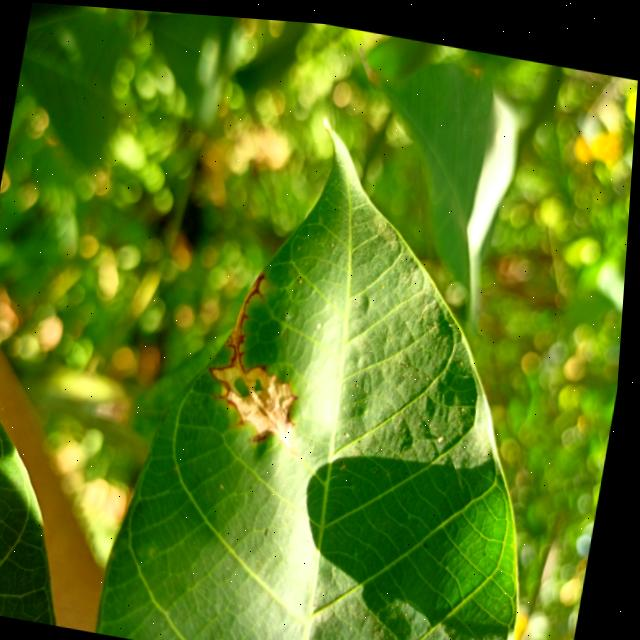Corynespora: (195, 357, 316, 450), (224, 252, 273, 364), (225, 347, 228, 352)
Leaf-Blight: (248, 372, 302, 430)
